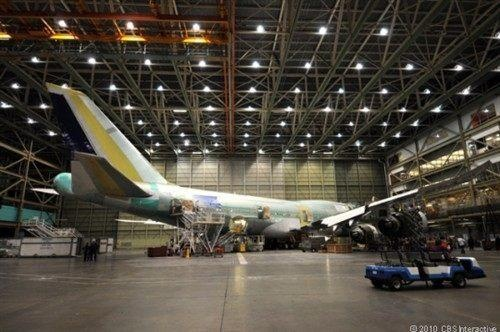airplane: (46, 80, 379, 238)
